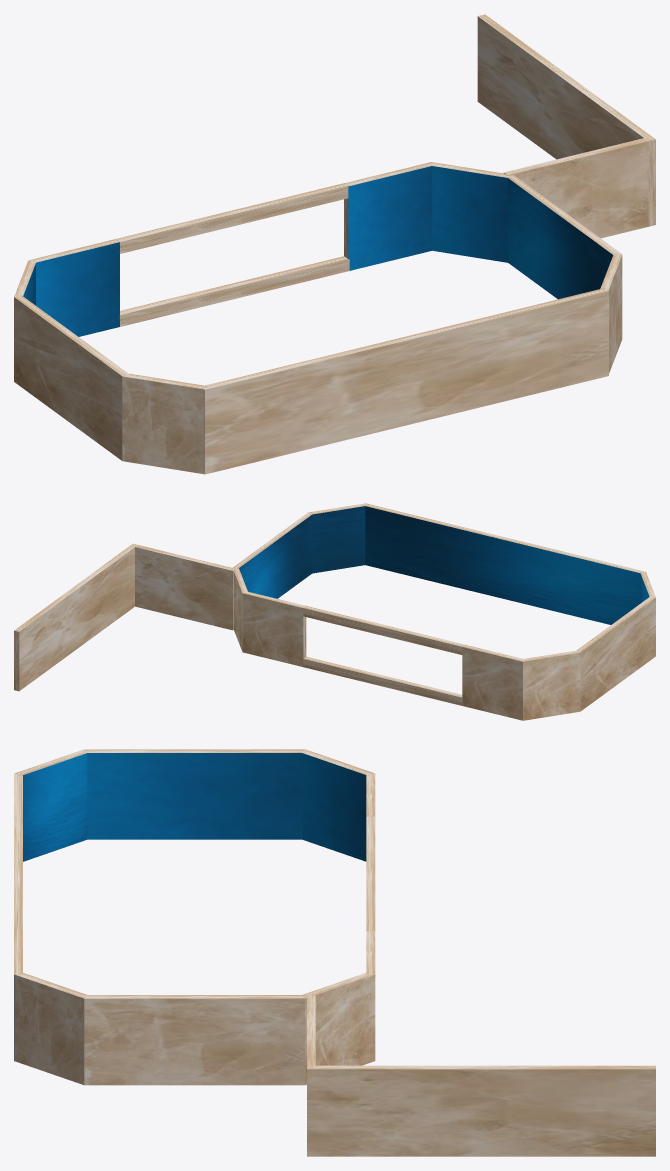
File: area_delfines.obj
The picture shows the model from 3 angles, top to bottom: view 1: azimuth 30°, elevation 25°; view 2: azimuth 150°, elevation 25°; view 3: azimuth 270°, elevation 25°; orthographic projection. The views are drawn at different scales.
Parts seen in each view (by area): view 1: polySurface436; view 2: polySurface436; view 3: polySurface436.
Boxes of the visible parts, x1,y1,x2,y2 form: polySurface436: (14,14,655,474); polySurface436: (14,503,655,720); polySurface436: (14,749,655,1156).
Size of the model in its own units: 164 by 20.8 by 138.
4 materials, 3 textured.
